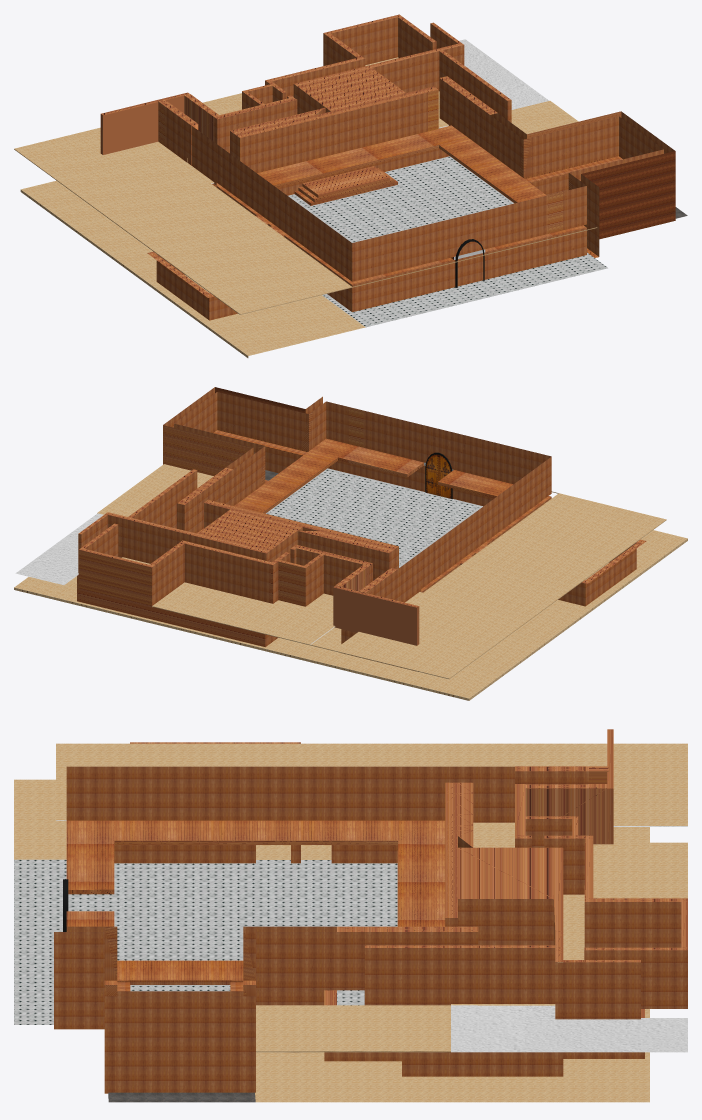
Rendered from VitaHusetInne.fbx.
3 views of the same model, one above another, from view 1: azimuth 30°, elevation 25°; view 2: azimuth 150°, elevation 25°; view 3: azimuth 270°, elevation 25° (orthographic). The views are drawn at different scales.
Parts seen in each view (by area): view 1: Hus, Golv2, Golv1, Höjd; view 2: Hus, Golv2, Golv1, Dörr; view 3: Hus, Golv1, Golv2.
Boxes of the visible parts, x1=… form: Hus: x1=100, y1=14, x2=675, y2=320; Golv2: x1=14, y1=39, x2=597, y2=314; Golv1: x1=20, y1=156, x2=687, y2=357; Höjd: x1=294, y1=166, x2=397, y2=205; Hus: x1=77, y1=387, x2=646, y2=671; Golv2: x1=15, y1=464, x2=666, y2=679; Golv1: x1=14, y1=468, x2=687, y2=700; Dörr: x1=425, y1=452, x2=452, y2=498; Hus: x1=54, y1=729, x2=687, y2=1093; Golv1: x1=14, y1=779, x2=649, y2=1102; Golv2: x1=56, y1=743, x2=687, y2=1052.
Size of the model in its own units: 17.56 by 2.54 by 15.5.
8 materials, 7 textured.
